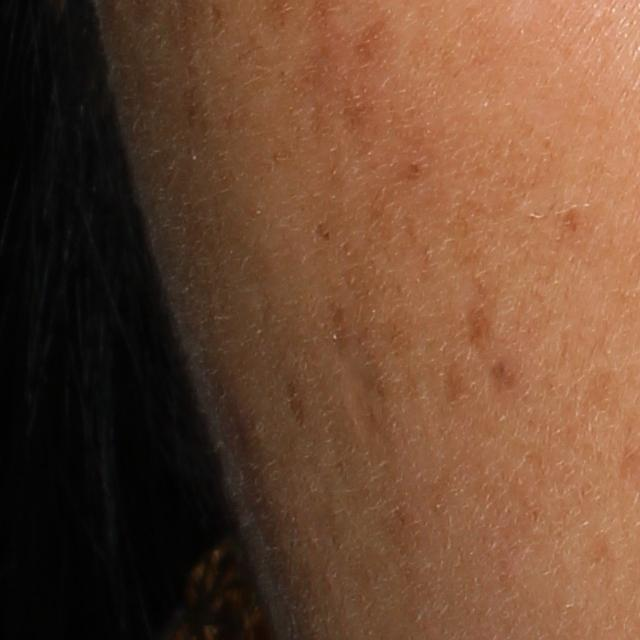melasma: (452, 240, 505, 362), (443, 353, 481, 410), (486, 358, 530, 394), (285, 379, 309, 432)
